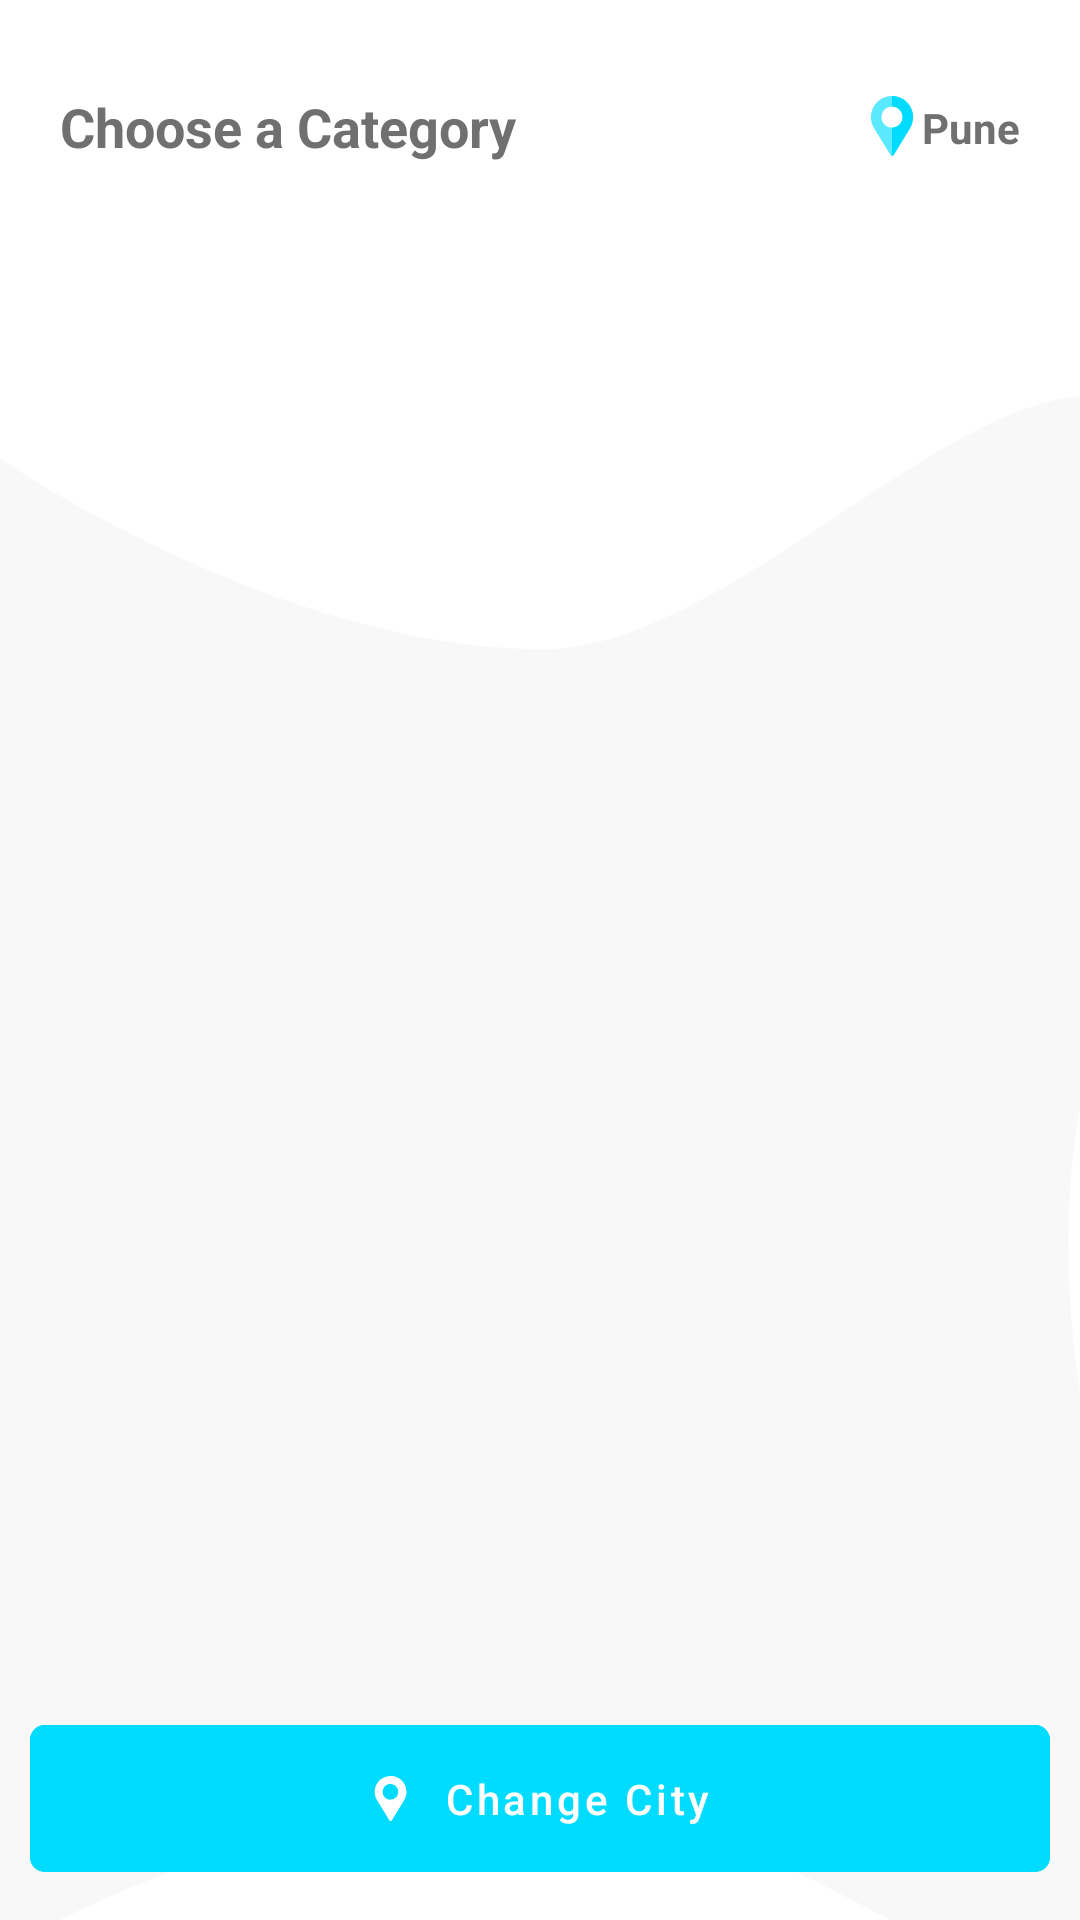

Screen size 1080 x 1920. Icon name, then its center in pixels as point (x, y):
city pin: point (892, 126)
